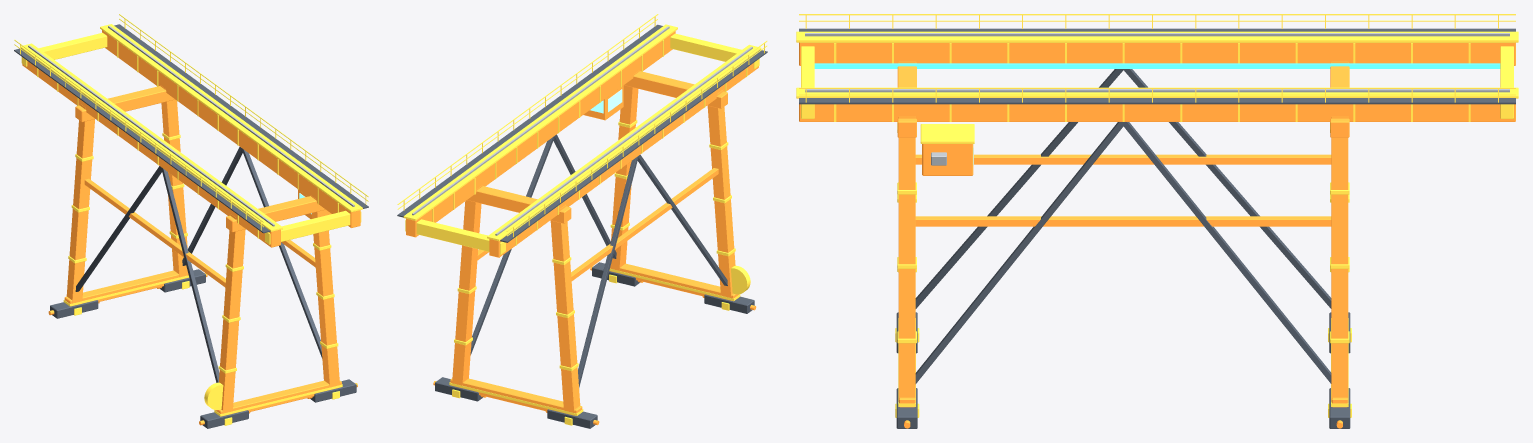
Rendered from rebar-gantry-frame-v4-low.glb.
The picture shows the model from 3 angles, left to right: view 1: azimuth 30°, elevation 25°; view 2: azimuth 150°, elevation 25°; view 3: azimuth 270°, elevation 25°; orthographic projection. The views are drawn at different scales.
Visible parts, largest first — view 1: rebar-gantry-frame-v4-high.glb-v5_crane_orange, rebar-gantry-frame-v4-high.glb-v5_crane_yellow, rebar-gantry-frame-v4-high.glb-v5_heavy_gunmetal, rebar-gantry-frame-v4-high.glb-v5_bright_steel; view 2: rebar-gantry-frame-v4-high.glb-v5_crane_orange, rebar-gantry-frame-v4-high.glb-v5_crane_yellow, rebar-gantry-frame-v4-high.glb-v5_heavy_gunmetal, rebar-gantry-frame-v4-high.glb-v5_bright_steel; view 3: rebar-gantry-frame-v4-high.glb-v5_crane_orange, rebar-gantry-frame-v4-high.glb-v5_crane_yellow, rebar-gantry-frame-v4-high.glb-v5_heavy_gunmetal, rebar-gantry-frame-v4-high.glb-v5_bright_steel, rebar-gantry-frame-v4-high.glb-v5_tech_cyan.
Boxes of the visible parts, x1,y1,x2,y2 form: rebar-gantry-frame-v4-high.glb-v5_crane_orange: [22, 30, 360, 425]; rebar-gantry-frame-v4-high.glb-v5_crane_yellow: [14, 14, 368, 425]; rebar-gantry-frame-v4-high.glb-v5_heavy_gunmetal: [14, 24, 368, 428]; rebar-gantry-frame-v4-high.glb-v5_bright_steel: [28, 26, 354, 226]; rebar-gantry-frame-v4-high.glb-v5_crane_orange: [406, 31, 758, 425]; rebar-gantry-frame-v4-high.glb-v5_crane_yellow: [397, 14, 767, 425]; rebar-gantry-frame-v4-high.glb-v5_heavy_gunmetal: [397, 24, 767, 428]; rebar-gantry-frame-v4-high.glb-v5_bright_steel: [412, 26, 752, 235]; rebar-gantry-frame-v4-high.glb-v5_crane_orange: [799, 42, 1515, 428]; rebar-gantry-frame-v4-high.glb-v5_crane_yellow: [796, 14, 1518, 417]; rebar-gantry-frame-v4-high.glb-v5_heavy_gunmetal: [799, 28, 1515, 428]; rebar-gantry-frame-v4-high.glb-v5_bright_steel: [805, 33, 1509, 165]; rebar-gantry-frame-v4-high.glb-v5_tech_cyan: [814, 63, 1500, 68].
Size of the model in its own units: 18.05 by 25.18 by 50.1.
